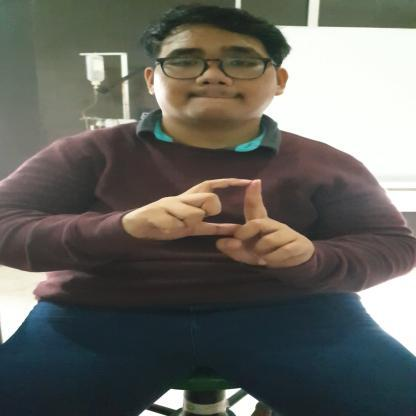D: (126, 176, 316, 268)
